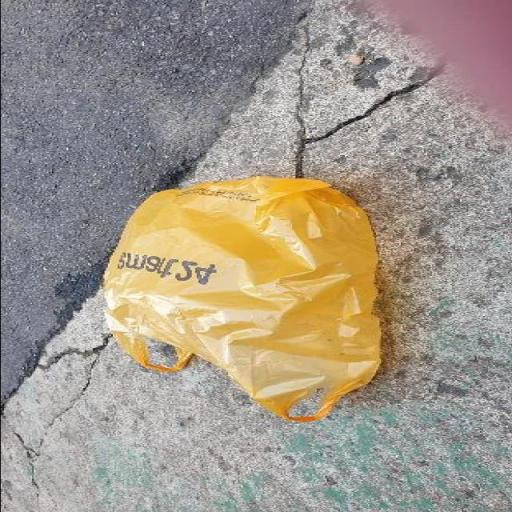plastic-bag: (96, 176, 387, 424)
